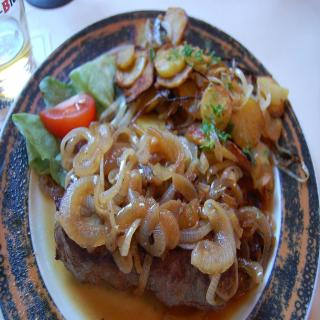tomato: (39, 91, 96, 139)
